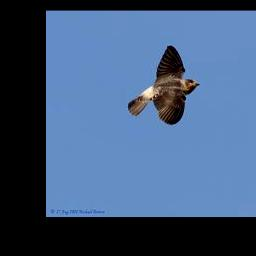Swallow: (126, 44, 202, 126)
